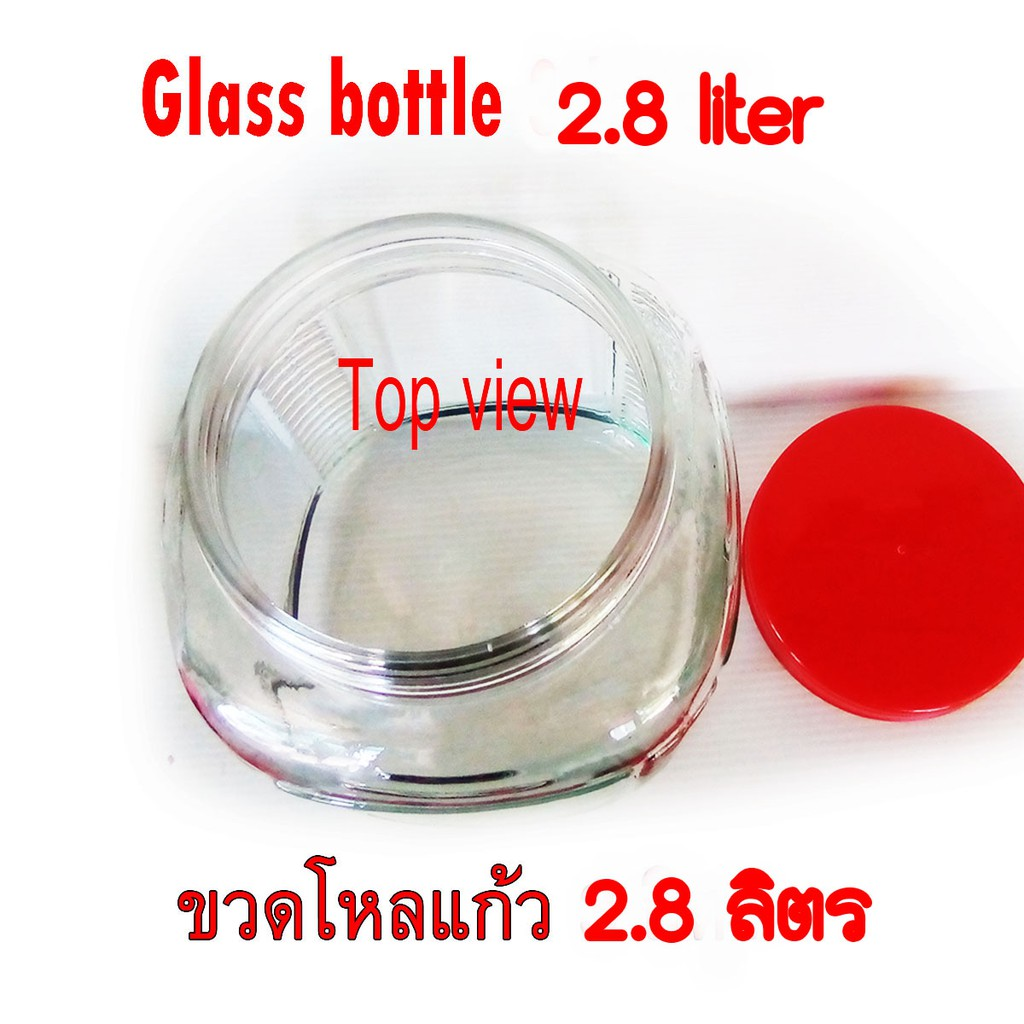glass_bottle: (139, 196, 743, 823)
